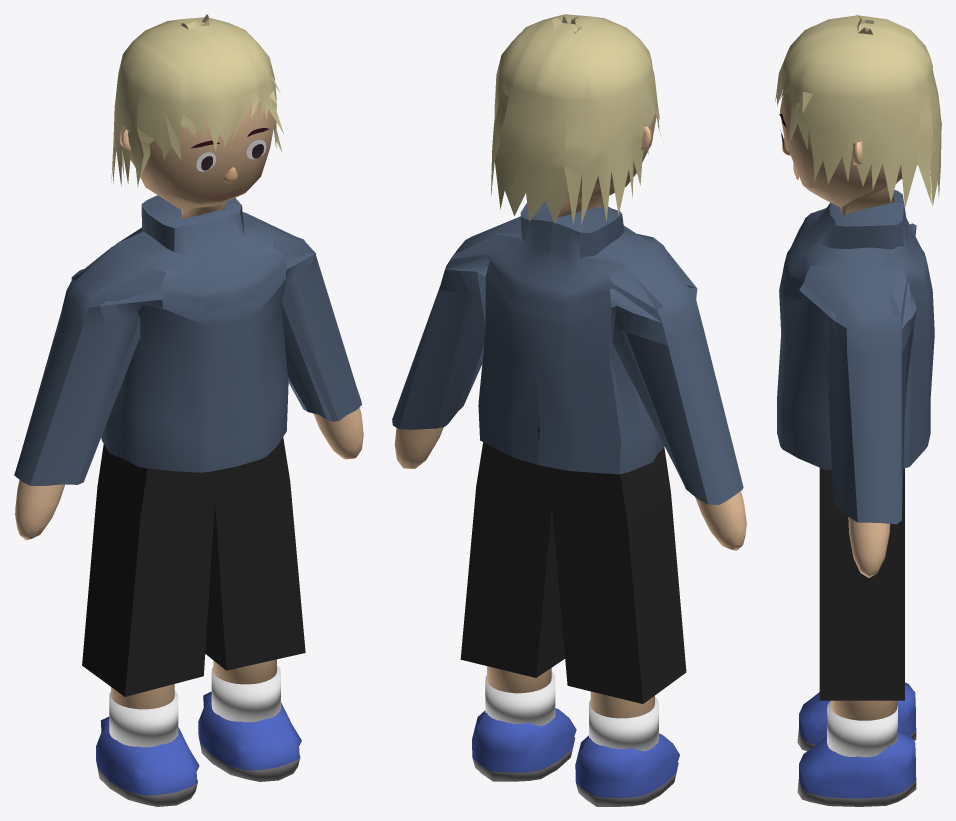
File: CharacterMan.glb
The picture shows the model from 3 angles, left to right: view 1: azimuth 30°, elevation 25°; view 2: azimuth 150°, elevation 25°; view 3: azimuth 270°, elevation 25°; orthographic projection.
Parts seen in each view (by area): view 1: Cube.004, Cube.007, Cube, head, Cube.013, Cube.014, Cylinder.004, Cylinder.003, Cube.012, Cube.006, Cylinder.001, Cylinder.002; view 2: Cube.004, Cube.007, Cube, Cube.014, Cube.013, Cylinder.004, Cylinder.003, Cube.012, Cube.006, Cylinder.001, Cylinder.002, head; view 3: Cube.004, Cube, Cube.007, Cube.014, head, Cylinder.004, Cube.013, Cube.006, Cylinder.001.
Boxes of the visible parts, x1,y1,x2,y2 form: Cube.004: (14,195,361,485); Cube.007: (82,437,305,696); Cube: (111,14,283,187); head: (130,101,274,219); Cube.013: (96,716,199,806); Cube.014: (198,691,301,781); Cylinder.004: (211,665,280,722); Cylinder.003: (109,690,178,747); Cube.012: (15,479,65,540); Cube.006: (313,407,363,459); Cylinder.001: (213,659,276,684); Cylinder.002: (111,684,174,709); Cube.004: (392,201,743,504); Cube.007: (460,385,686,703); Cube: (491,14,661,224); Cube.014: (472,708,576,781); Cube.013: (575,733,679,806); Cylinder.004: (485,672,555,725); Cylinder.003: (589,697,658,751); Cube.012: (695,491,746,550); Cube.006: (394,427,443,468); Cylinder.001: (487,666,551,693); Cylinder.002: (590,691,654,718); head: (558,113,656,217); Cube.004: (777,190,934,524); Cube: (775,14,941,207); Cube.007: (819,468,904,700); Cube.014: (797,730,916,806); head: (780,93,917,215); Cylinder.004: (827,700,897,757); Cube.013: (797,682,916,751); Cube.006: (848,517,890,577); Cylinder.001: (832,700,897,720).
Size of the model in its own units: 4.26 by 8.92 by 1.79.
